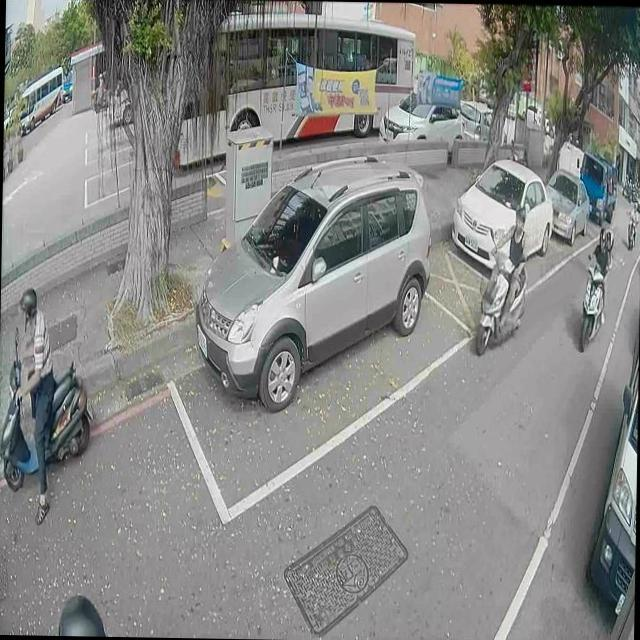person: (10, 280, 57, 520), (486, 204, 530, 334), (586, 222, 611, 328), (57, 592, 107, 636), (591, 228, 615, 318), (94, 72, 106, 102), (628, 198, 638, 224)
